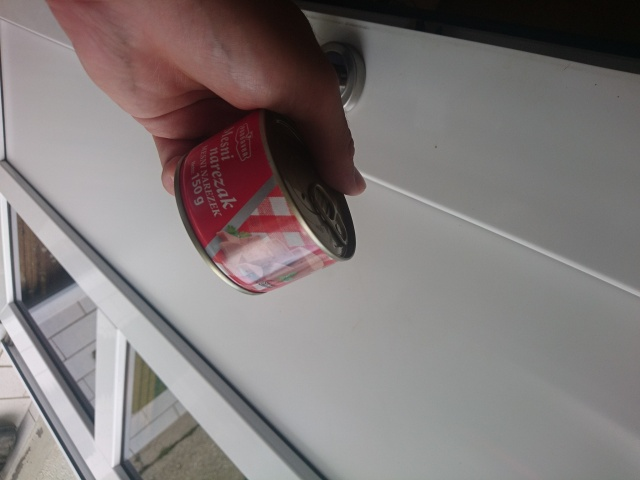Podravka Luncheon Meat 150g: (170, 104, 359, 298)
